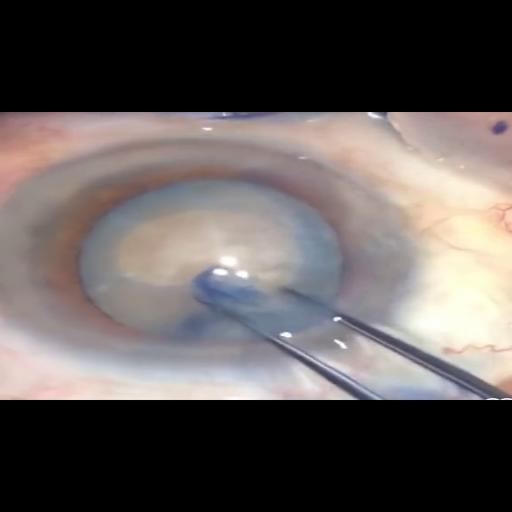catarata: (83, 181, 346, 346)
cornea: (0, 138, 436, 374)
pupil: (38, 172, 384, 351)
